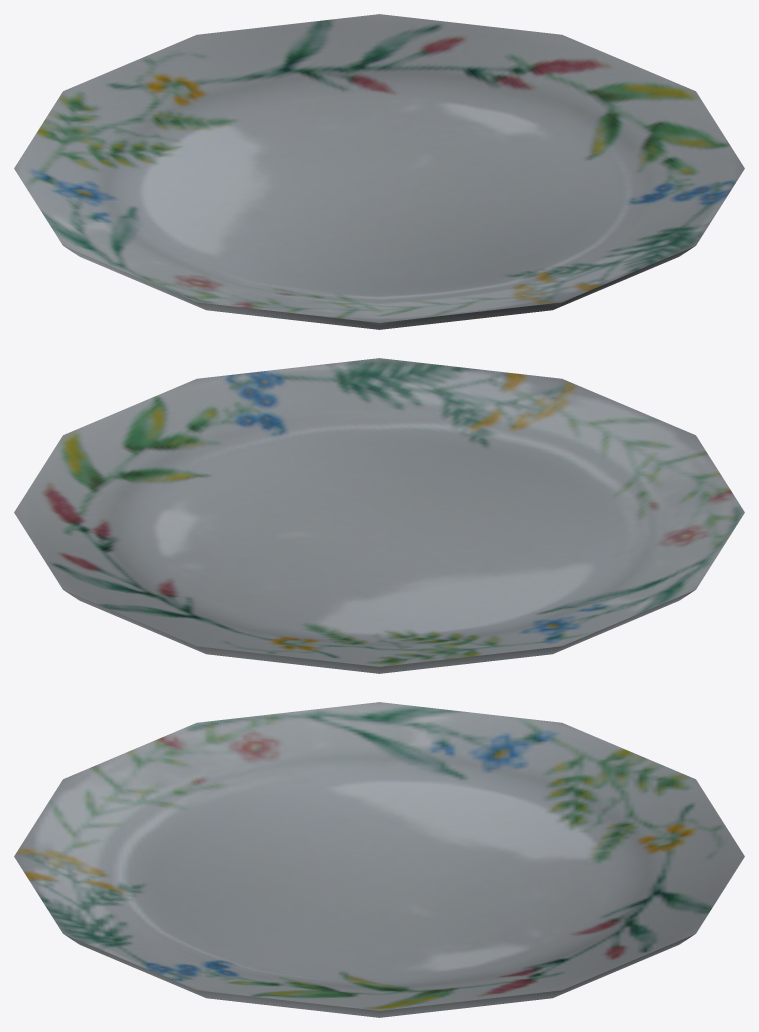
The model's file is dish-3.FBX.
The picture shows the model from 3 angles, top to bottom: view 1: azimuth 30°, elevation 25°; view 2: azimuth 150°, elevation 25°; view 3: azimuth 270°, elevation 25°; orthographic projection.
Visible parts, largest first — view 1: Line01; view 2: Line01; view 3: Line01.
Boxes of the visible parts, x1,y1,x2,y2 form: Line01: (14,14,744,329); Line01: (14,358,744,673); Line01: (14,702,744,1017).
Size of the model in its own units: 17.35 by 1.54 by 17.35.
